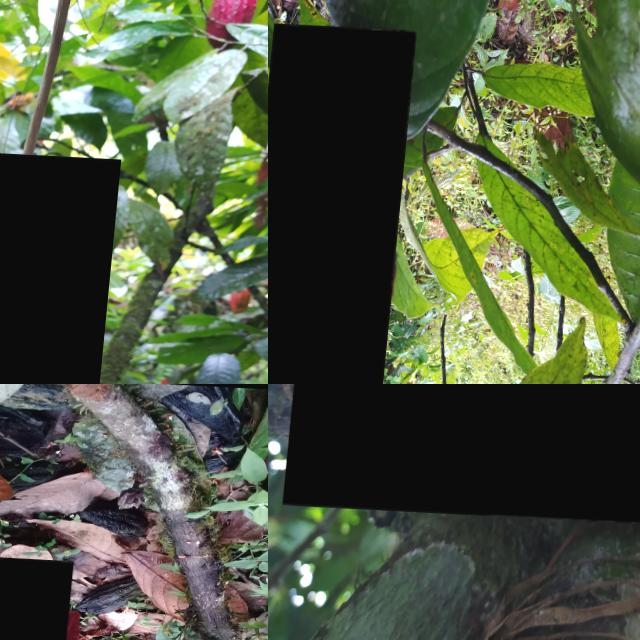Fitoftora: (268, 21, 419, 384)
Monilia: (292, 384, 640, 523), (0, 148, 124, 384)
